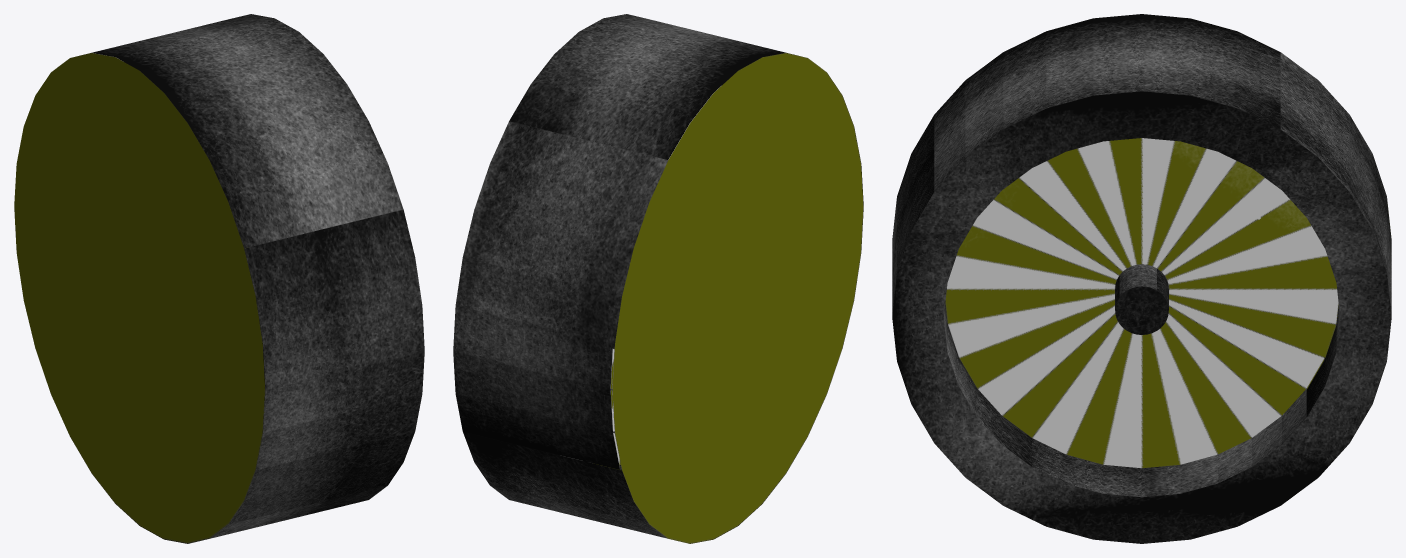
File: rueda.obj
3 views of the same model, side by side, from view 1: azimuth 30°, elevation 25°; view 2: azimuth 150°, elevation 25°; view 3: azimuth 270°, elevation 25° (orthographic).
Visible parts, largest first — view 1: Cylinder; view 2: Cylinder; view 3: Cylinder.
Part boxes in pixels (bbox=[...]): Cylinder: bbox=[14, 14, 424, 543]; Cylinder: bbox=[453, 14, 863, 543]; Cylinder: bbox=[892, 14, 1391, 543].
Bounding box in the file's own units: 0.7323 × 2 × 2.
1 material, 1 textured.
